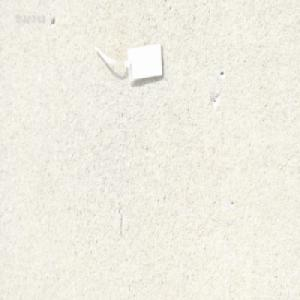LuggageTag: (92, 40, 164, 86)
